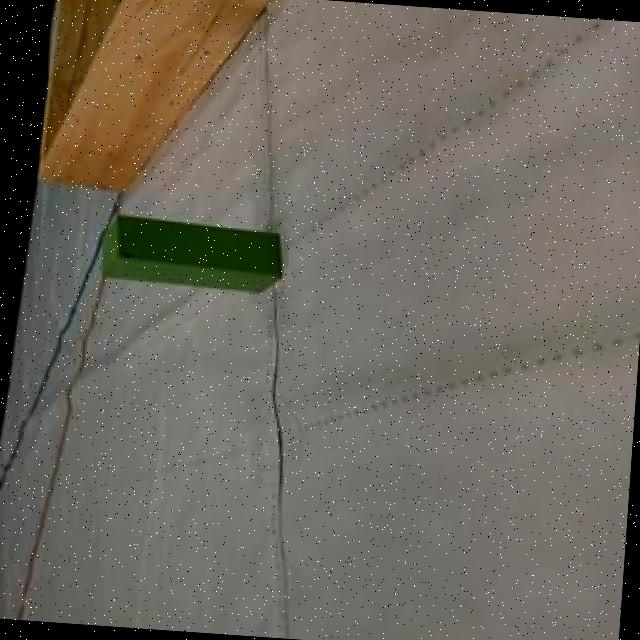greenbox: (92, 214, 282, 296)
